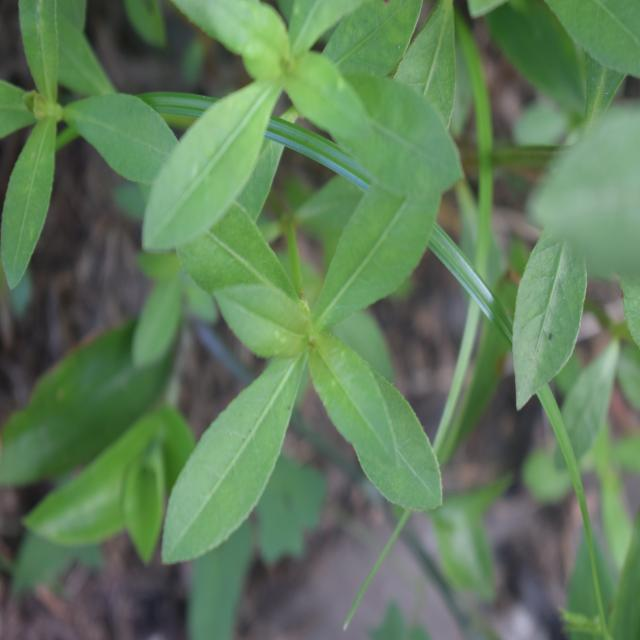Alligatorweed: (142, 181, 472, 535), (0, 0, 169, 273)
